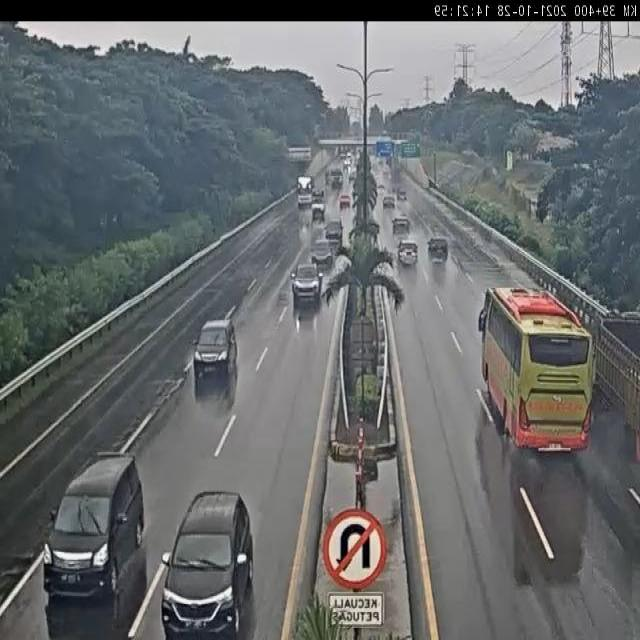Bus: (473, 277, 602, 464)
Car: (43, 452, 147, 614), (160, 489, 254, 635), (192, 317, 240, 400), (292, 258, 324, 304), (310, 240, 333, 270), (397, 240, 419, 266), (427, 237, 449, 262), (325, 220, 343, 247), (392, 217, 410, 235), (311, 201, 325, 221), (312, 187, 324, 202), (383, 195, 395, 209), (339, 194, 350, 209), (397, 188, 407, 201)
